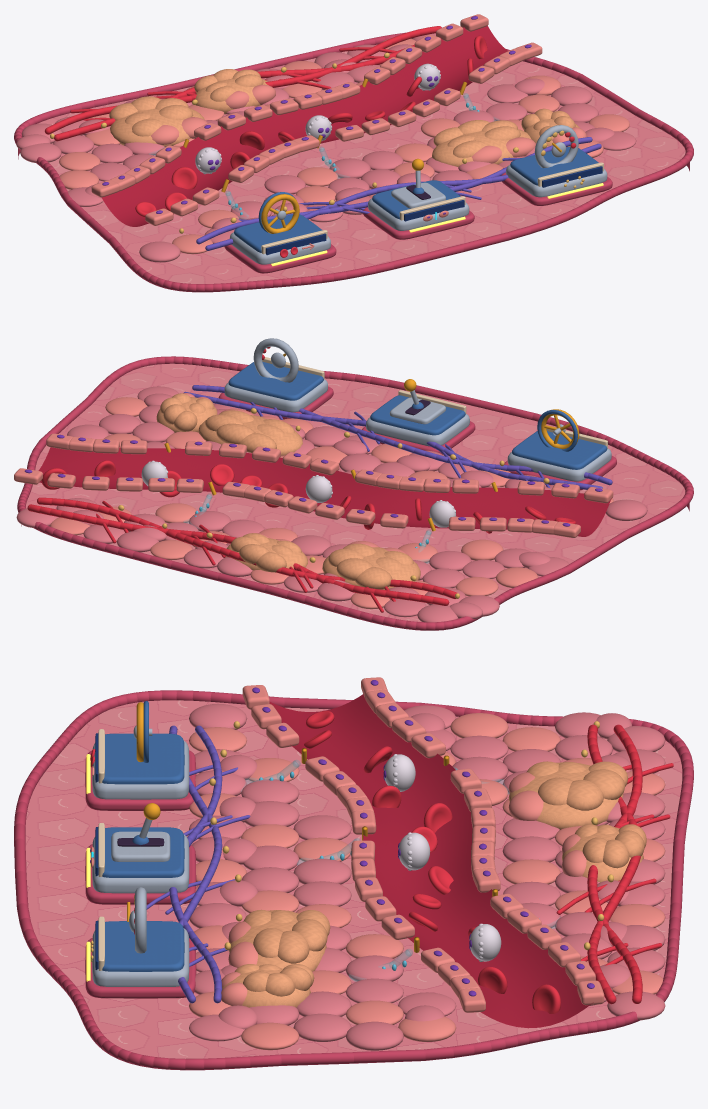
The model's file is inflammation.glb.
3 views of the same model, one above another, from view 1: azimuth 30°, elevation 25°; view 2: azimuth 150°, elevation 25°; view 3: azimuth 270°, elevation 25° (orthographic). The views are drawn at different scales.
Visible parts, largest first — view 1: Piso pintado, endo, tissuetop, tissuebase, vesselinside, artery, controlmetal, controlblue, swelling_0_tissuewarm, vein, swelling_2_tissuewarm, swelling_1_tissuewarm (+12 smaller); view 2: Piso pintado, endo, tissuetop, vesselinside, tissuebase, artery, controlblue, controlmetal, vein, swelling_0_tissuewarm, swelling_2_tissuewarm, swelling_1_tissuewarm (+5 smaller); view 3: tissuetop, Piso pintado, endo, vesselinside, tissuebase, artery, controlblue, controlmetal, swelling_0_tissuewarm, vein, swelling_2_tissuewarm, swelling_1_tissuewarm (+10 smaller).
Part boxes in pixels (<box>): Piso pintado: <box>37,44,685,283</box>; endo: <box>59,14,629,254</box>; tissuetop: <box>16,33,636,262</box>; tissuebase: <box>14,32,693,292</box>; vesselinside: <box>101,26,507,226</box>; artery: <box>44,26,576,257</box>; controlmetal: <box>229,125,607,264</box>; controlblue: <box>234,146,598,252</box>; swelling_0_tissuewarm: <box>109,96,204,146</box>; vein: <box>196,137,601,250</box>; swelling_2_tissuewarm: <box>432,120,531,166</box>; swelling_1_tissuewarm: <box>194,69,268,114</box>; Piso pintado: <box>26,363,685,621</box>; endo: <box>14,397,613,609</box>; tissuetop: <box>16,386,647,622</box>; vesselinside: <box>38,447,611,536</box>; tissuebase: <box>17,356,693,630</box>; artery: <box>27,347,575,612</box>; controlblue: <box>228,361,607,469</box>; controlmetal: <box>224,338,611,481</box>; vein: <box>184,385,612,489</box>; swelling_0_tissuewarm: <box>322,543,420,589</box>; swelling_2_tissuewarm: <box>198,410,302,455</box>; swelling_1_tissuewarm: <box>226,533,307,572</box>; tissuetop: <box>189,703,665,1050</box>; Piso pintado: <box>25,700,682,1058</box>; endo: <box>90,677,665,1050</box>; vesselinside: <box>269,694,593,1028</box>; tissuebase: <box>14,690,693,1070</box>; artery: <box>90,711,673,1013</box>; controlblue: <box>102,701,184,971</box>; controlmetal: <box>92,728,189,986</box>; swelling_0_tissuewarm: <box>508,761,628,829</box>; vein: <box>146,725,250,1003</box>; swelling_2_tissuewarm: <box>229,909,330,971</box>; swelling_1_tissuewarm: <box>562,824,646,882</box>.
Size of the model in its own units: 29.06 by 3.99 by 22.37.
Materials: 35 (35 with a texture image).
